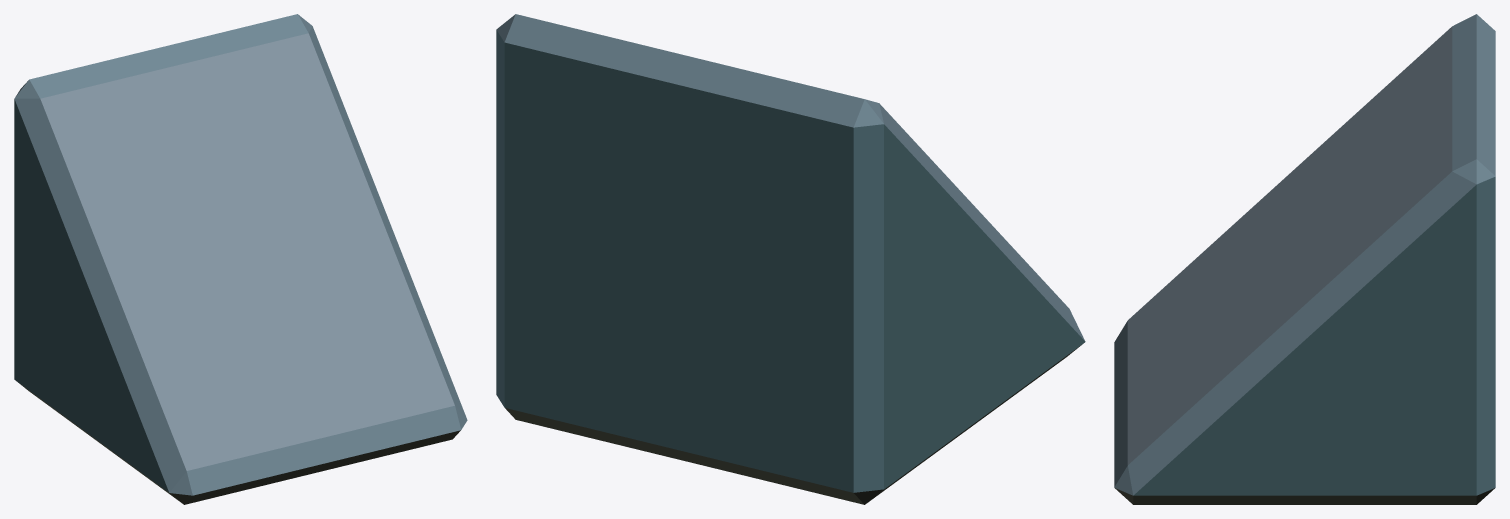
The model's file is m_kub_diagonalGrey.FBX.
3 views of the same model, side by side, from view 1: azimuth 30°, elevation 25°; view 2: azimuth 150°, elevation 25°; view 3: azimuth 270°, elevation 25° (orthographic). The views are drawn at different scales.
Parts seen in each view (by area): view 1: m_kub_diagonalGrey; view 2: m_kub_diagonalGrey; view 3: m_kub_diagonalGrey.
Boxes of the visible parts, x1,y1,x2,y2 form: m_kub_diagonalGrey: [14, 14, 467, 504]; m_kub_diagonalGrey: [496, 14, 1085, 504]; m_kub_diagonalGrey: [1114, 14, 1495, 504].
Bounding box in the file's own units: 2 × 2 × 2.
